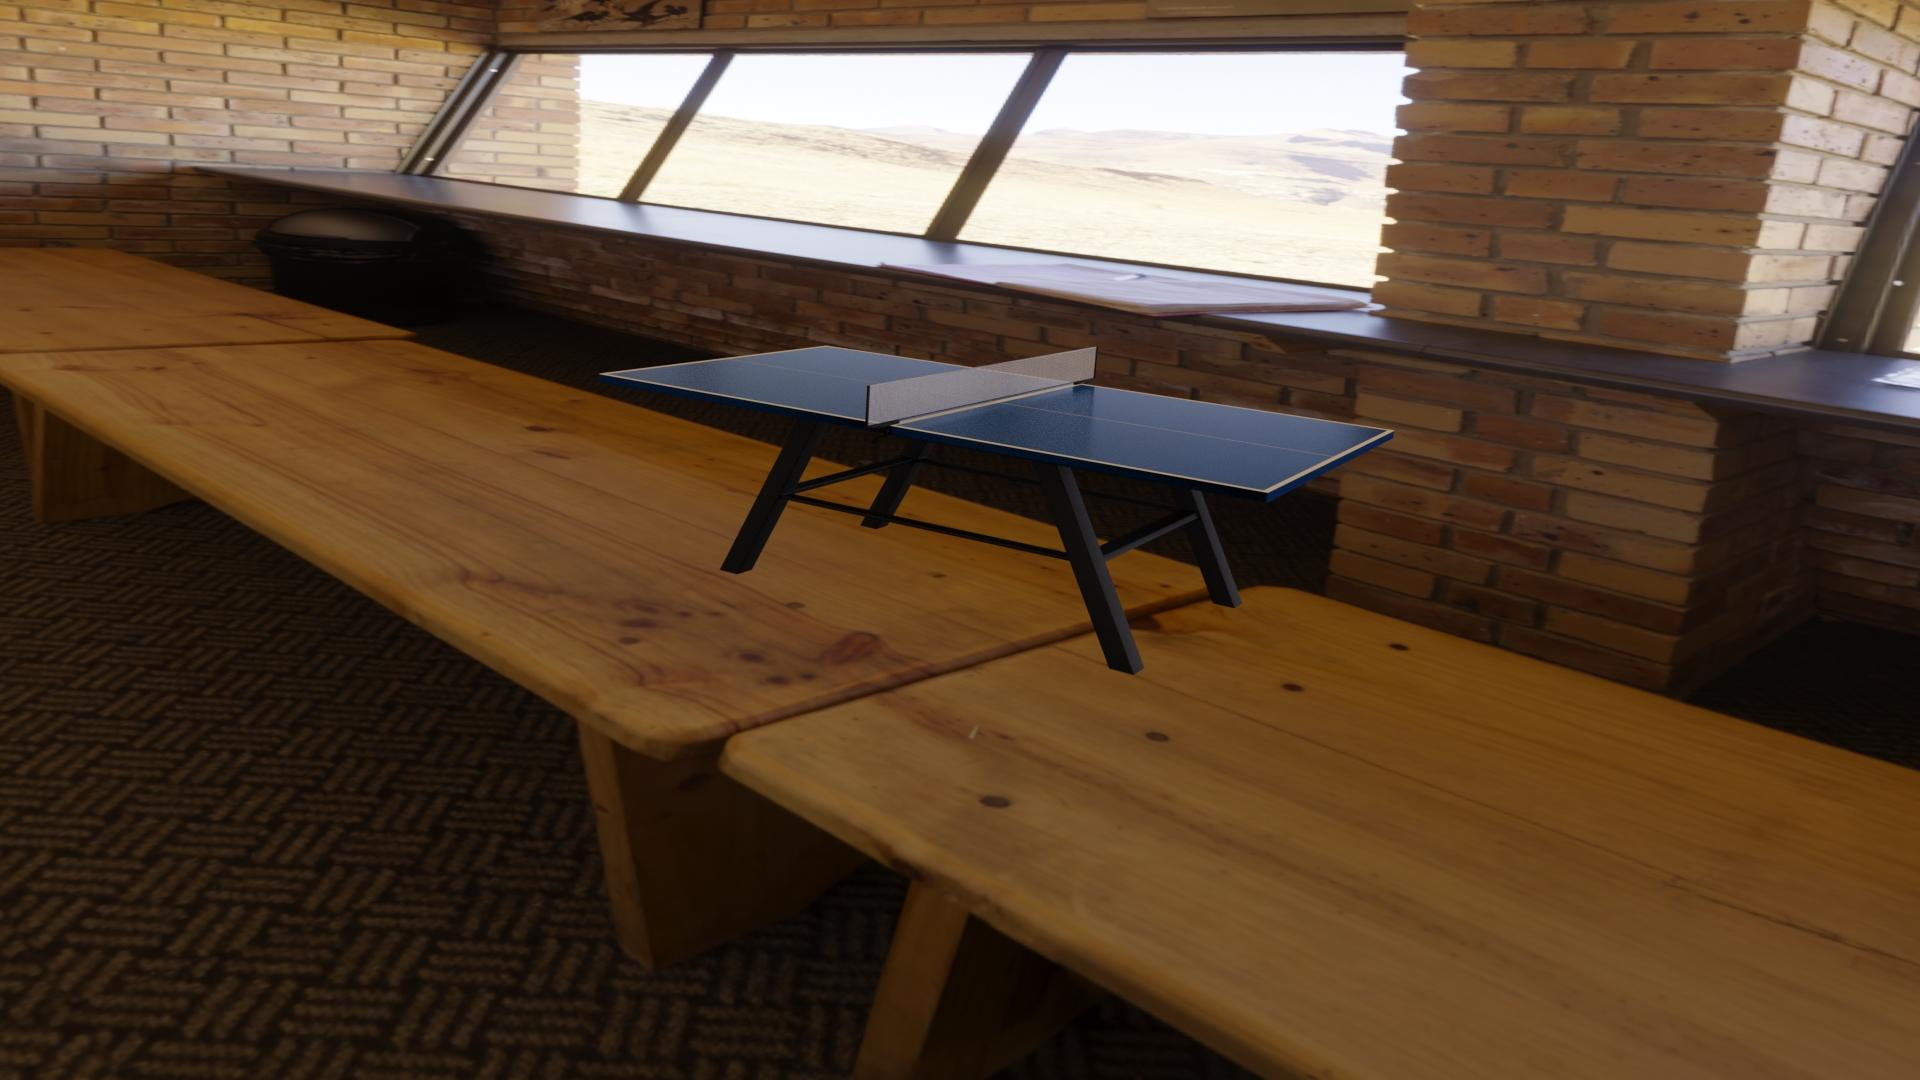table: (607, 347, 1389, 491)
